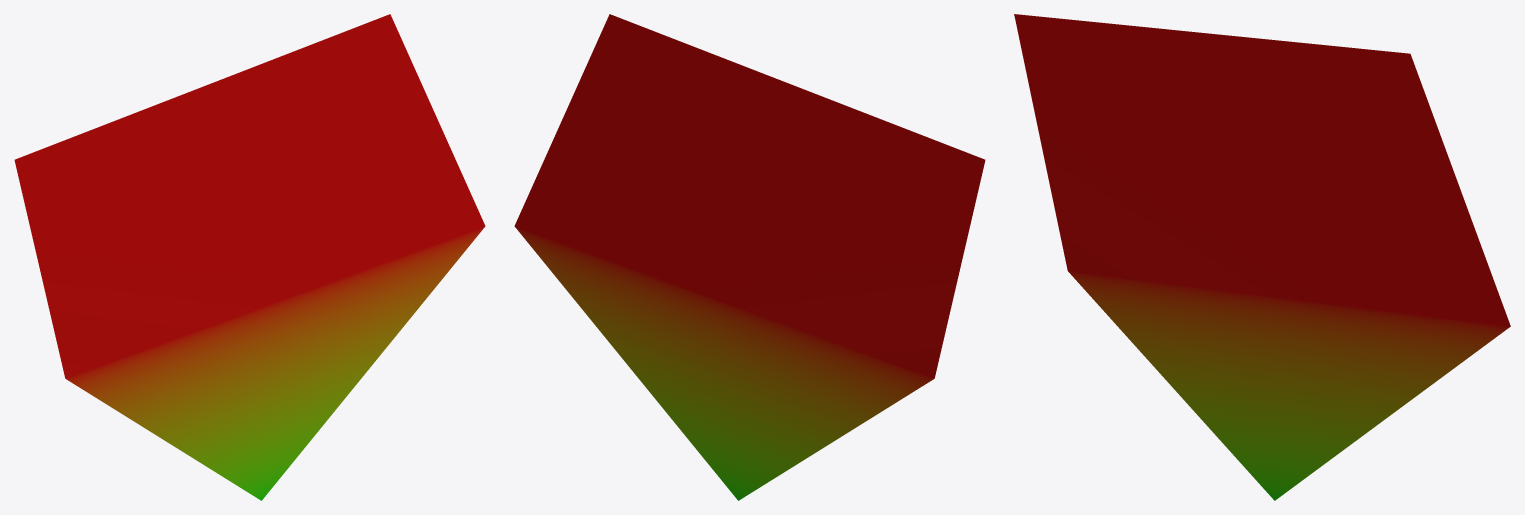
File: Small Balsam_LOD6_Var3_xefmcgrqx.fbx
3 views of the same model, side by side, from view 1: azimuth 30°, elevation 25°; view 2: azimuth 150°, elevation 25°; view 3: azimuth 330°, elevation 25° (orthographic). The views are drawn at different scales.
Parts seen in each view (by area): view 1: _qdaa_Var3_LOD6; view 2: _qdaa_Var3_LOD6; view 3: _qdaa_Var3_LOD6.
Part boxes in pixels (x1,y1,x2,y2): _qdaa_Var3_LOD6: [14, 14, 485, 500]; _qdaa_Var3_LOD6: [514, 14, 985, 500]; _qdaa_Var3_LOD6: [1014, 14, 1510, 500].
Size of the model in its own units: 51.74 by 47.81 by 2.11e-06.
